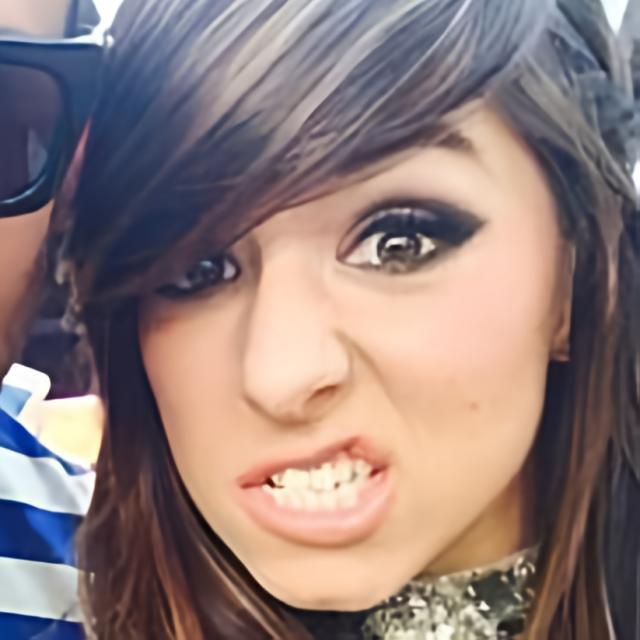disgust: (131, 44, 562, 612)
